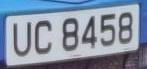4: (80, 10, 100, 55)
5: (98, 10, 119, 52)
8: (60, 12, 82, 58), (117, 9, 136, 49)
C: (33, 15, 57, 61)
U: (10, 18, 34, 62)
